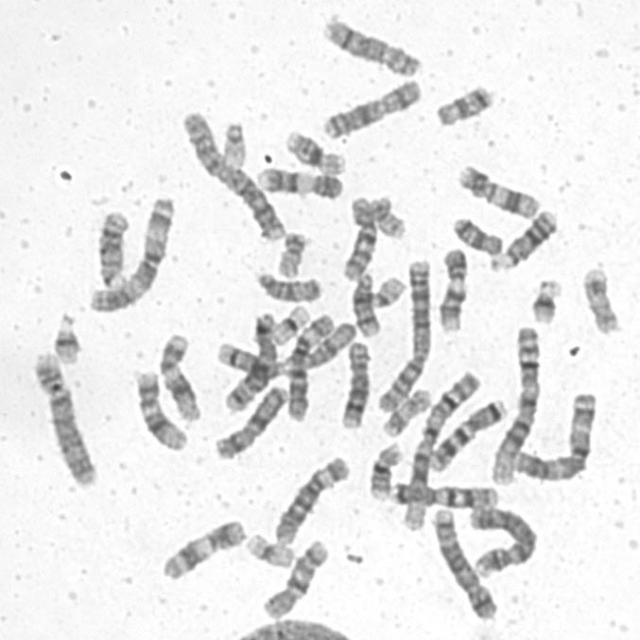A1: (398, 366, 484, 533), (485, 318, 544, 486)
A2: (175, 104, 287, 243), (371, 252, 435, 414)
A3: (82, 188, 177, 314), (506, 384, 598, 483)
B4: (27, 345, 100, 489), (463, 500, 540, 578)
B5: (426, 499, 500, 622), (219, 307, 278, 414)
C10: (257, 533, 331, 621), (336, 189, 379, 283)
C11: (155, 512, 248, 583), (452, 157, 543, 220)
C12: (129, 363, 189, 452), (153, 327, 203, 424)
C6: (268, 449, 352, 547), (281, 306, 337, 422)
C7: (422, 391, 510, 473), (384, 475, 500, 510)
C8: (316, 9, 424, 78), (334, 334, 374, 431)
C9: (252, 160, 345, 201), (432, 242, 470, 335)
D13: (483, 202, 560, 274), (91, 204, 131, 291)
D14: (346, 264, 383, 338), (211, 342, 284, 378)
D15: (283, 319, 358, 376), (250, 264, 323, 304)
E16: (279, 123, 348, 176), (362, 436, 406, 502)
E17: (576, 260, 622, 336), (376, 382, 434, 438)
E18: (430, 78, 496, 128), (446, 210, 505, 256)
F19: (240, 527, 297, 569), (266, 297, 313, 346)
F20: (365, 189, 408, 240), (271, 225, 309, 279)
G21: (46, 306, 84, 366), (525, 272, 564, 326)
G22: (216, 114, 250, 170), (365, 269, 407, 309)
X: (316, 72, 424, 140), (208, 379, 290, 461)
